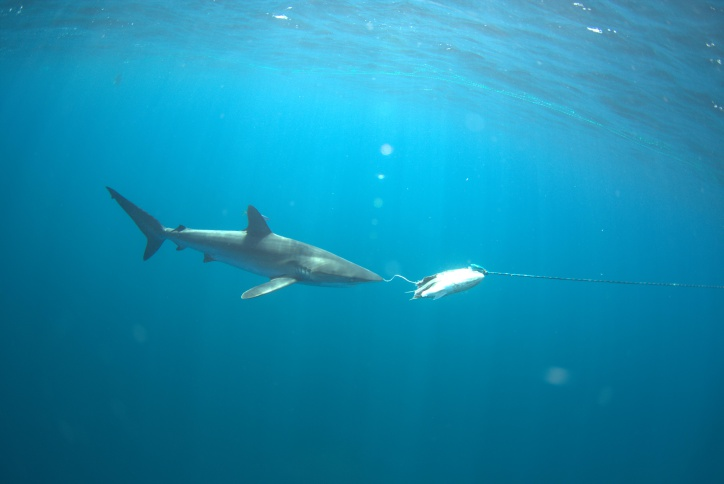Sedoso: (94, 180, 400, 313)
